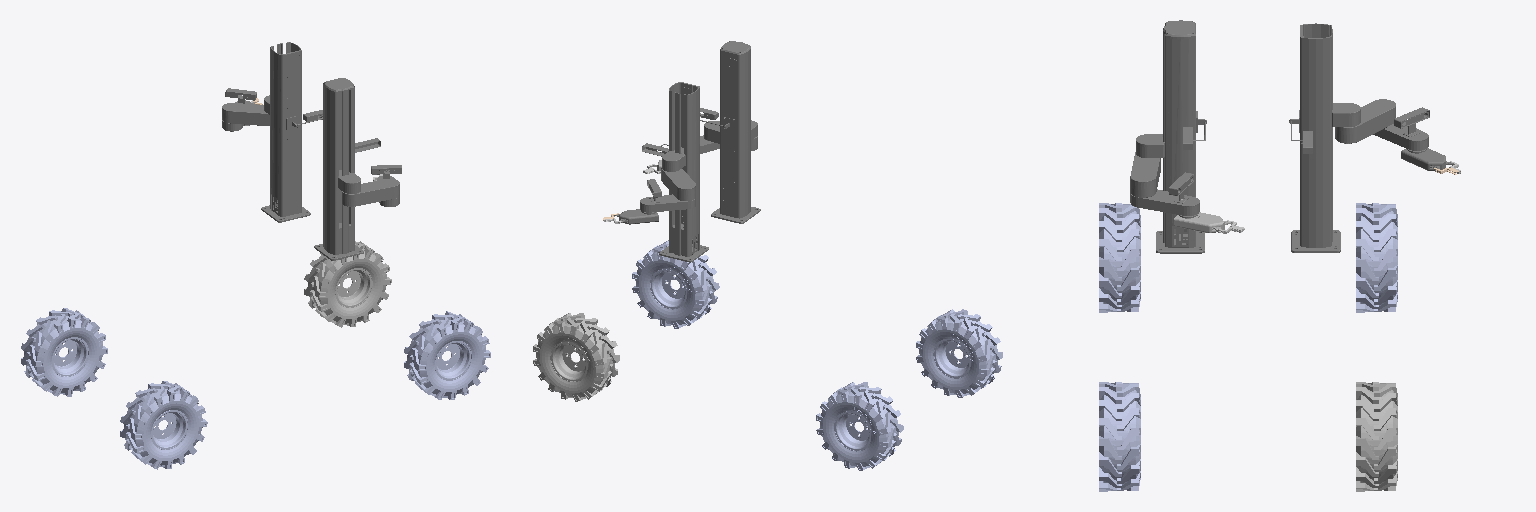
--- Facts derived from the render (not from the file) ---
Views: 3 orthographic renders of the robot side by side, from view 1: azimuth 30°, elevation 25°; view 2: azimuth 150°, elevation 25°; view 3: azimuth 270°, elevation 25°.
Robot: arm — 19 links, 18 joints (9 revolute, 1 continuous, 4 prismatic, 4 fixed); root link base_link; default pose: every joint at zero.
Visible links, largest first — view 1: l_arm_base, r_arm_base, l_wheel_back, r_wheel_front, r_wheel_back, l_wheel_front, r_arm_link_2, l_arm_link_2; view 2: r_arm_base, l_wheel_back, r_wheel_back, l_wheel_front, r_wheel_front, l_arm_base, l_arm_link_3, l_arm_link_2; view 3: l_arm_base, r_arm_base, l_wheel_front, l_wheel_back, r_wheel_front, r_wheel_back, r_arm_link_3, l_arm_link_2, l_arm_link_3, r_arm_link_2, r_arm_gripper_base, gripper_base (+2 smaller).
Link boxes in pixels (x1,y1,x2,y2): l_arm_base: (261, 42, 322, 222); r_arm_base: (314, 78, 380, 260); l_wheel_back: (21, 308, 107, 396); r_wheel_front: (404, 311, 490, 399); r_wheel_back: (120, 381, 207, 469); l_wheel_front: (304, 241, 391, 327); r_arm_link_2: (342, 179, 399, 206); l_arm_link_2: (222, 103, 269, 125); r_arm_base: (700, 41, 760, 223); l_wheel_back: (816, 382, 903, 470); r_wheel_back: (916, 309, 1002, 397); l_wheel_front: (533, 313, 619, 401); r_wheel_front: (632, 240, 719, 328); l_arm_base: (642, 82, 708, 262); l_arm_link_3: (640, 179, 695, 213); l_arm_link_2: (661, 168, 695, 200); l_arm_base: (1289, 23, 1340, 252); r_arm_base: (1156, 20, 1206, 253); l_wheel_front: (1356, 382, 1397, 491); l_wheel_back: (1356, 203, 1397, 312); r_wheel_front: (1099, 382, 1140, 491); r_wheel_back: (1099, 203, 1140, 312); r_arm_link_3: (1130, 172, 1199, 217); l_arm_link_2: (1335, 99, 1395, 143); l_arm_link_3: (1373, 107, 1429, 152); r_arm_link_2: (1130, 152, 1160, 197); r_arm_gripper_base: (1174, 198, 1232, 232); gripper_base: (1401, 148, 1454, 171).
Size in the robot's own frame: 2.16 by 1.47 by 1.82 metres.
18 mesh visuals loaded from 19 distinct referenced files (18 binary STL); not drawn: 1 (reference not matched to a file when rendering).

The robot description file, URDF, robot "arm":
<?xml version="1.0" encoding="utf-8"?>
<!-- This URDF was automatically created by SolidWorks to URDF Exporter! Originally created by Stephen Brawner ([email redacted]) 
     Commit Version: 1.6.0-1-g15f4949  Build Version: 1.6.7594.29634
     For more information, please see http://wiki.ros.org/sw_urdf_exporter -->
<robot
  name="arm">
  <link
    name="base_link">
    <inertial>
      <origin
        xyz="0.0967240490462767 -6.50785287934919E-06 0.570595021546874"
        rpy="0 0 0" />
      <mass
        value="732.561419245809" />
      <inertia
        ixx="55.0439847447433"
        ixy="0.0010546737252786"
        ixz="-13.2136142377722"
        iyy="215.138264753584"
        iyz="0.00166435387234733"
        izz="233.631575009062" />
    </inertial>
    <visual>
      <origin
        xyz="0 0 0"
        rpy="0 0 0" />
      <geometry>
        <mesh
          filename="package://arm/meshes/base_link.STL" />
      </geometry>
      <material
        name="">
        <color
          rgba="0.847058823529412 0.847058823529412 0.847058823529412 1" />
      </material>
    </visual>
    <collision>
      <origin
        xyz="0 0 0"
        rpy="0 0 0" />
      <geometry>
        <mesh
          filename="package://arm/meshes/base_link.STL" />
      </geometry>
    </collision>
  </link>
  <link
    name="l_wheel_front">
    <inertial>
      <origin
        xyz="-2.55500666828112E-05 -0.00431559968288031 2.73318019217081E-05"
        rpy="0 0 0" />
      <mass
        value="15.9113277105509" />
      <inertia
        ixx="0.256653495251073"
        ixy="3.31407246755754E-05"
        ixz="3.06050778192747E-05"
        iyy="0.446525377478014"
        iyz="-3.54358257007596E-05"
        izz="0.256649431563068" />
    </inertial>
    <visual>
      <origin
        xyz="0 0 0"
        rpy="0 0 0" />
      <geometry>
        <mesh
          filename="package://arm/meshes/l_wheel_front.STL" />
      </geometry>
      <material
        name="">
        <color
          rgba="0.764705882352941 0.764705882352941 0.764705882352941 1" />
      </material>
    </visual>
    <collision>
      <origin
        xyz="0 0 0"
        rpy="0 0 0" />
      <geometry>
        <mesh
          filename="package://arm/meshes/l_wheel_front.STL" />
      </geometry>
    </collision>
  </link>
  <joint
    name="base_l_wheel_front"
    type="continuous">
    <origin
      xyz="0.86 0.52594 0.2225"
      rpy="0 0 0" />
    <parent
      link="base_link" />
    <child
      link="l_wheel_front" />
    <axis
      xyz="0 -1 0" />
    <limit
      lower="-1000000"
      upper="1000000"
      effort="500000"
      velocity="1000000" />
  </joint>
  <link
    name="r_wheel_front">
    <inertial>
      <origin
        xyz="-2.55500666830333E-05 0.0026266099414507 2.73318019217567E-05"
        rpy="0 0 0" />
      <mass
        value="15.911327710551" />
      <inertia
        ixx="0.256653495251073"
        ixy="3.31407246756984E-05"
        ixz="3.06050778195969E-05"
        iyy="0.446525377478014"
        iyz="-3.54358257008297E-05"
        izz="0.256649431563068" />
    </inertial>
    <visual>
      <origin
        xyz="0 0 0"
        rpy="0 0 0" />
      <geometry>
        <mesh
          filename="package://arm/meshes/r_wheel_front.STL" />
      </geometry>
      <material
        name="">
        <color
          rgba="0.792156862745098 0.819607843137255 0.933333333333333 1" />
      </material>
    </visual>
    <collision>
      <origin
        xyz="0 0 0"
        rpy="0 0 0" />
      <geometry>
        <mesh
          filename="package://arm/meshes/r_wheel_front.STL" />
      </geometry>
    </collision>
  </link>
  <joint
    name="base_r_wheel_front"
    type="revolute">
    <origin
      xyz="0.86 -0.525 0.2225"
      rpy="0 0 0" />
    <parent
      link="base_link" />
    <child
      link="r_wheel_front" />
    <axis
      xyz="0 1 0" />
    <limit
      lower="-1000000"
      upper="1000000"
      effort="50000"
      velocity="50000" />
  </joint>
  <link
    name="l_wheel_back">
    <inertial>
      <origin
        xyz="-2.55500666831443E-05 -0.00337339005854931 2.73318019218954E-05"
        rpy="0 0 0" />
      <mass
        value="15.911327710551" />
      <inertia
        ixx="0.256653495251073"
        ixy="3.31407246756691E-05"
        ixz="3.06050778194563E-05"
        iyy="0.446525377478015"
        iyz="-3.5435825700846E-05"
        izz="0.256649431563068" />
    </inertial>
    <visual>
      <origin
        xyz="0 0 0"
        rpy="0 0 0" />
      <geometry>
        <mesh
          filename="package://arm/meshes/l_wheel_back.STL" />
      </geometry>
      <material
        name="">
        <color
          rgba="0.792156862745098 0.819607843137255 0.933333333333333 1" />
      </material>
    </visual>
    <collision>
      <origin
        xyz="0 0 0"
        rpy="0 0 0" />
      <geometry>
        <mesh
          filename="package://arm/meshes/l_wheel_back.STL" />
      </geometry>
    </collision>
  </link>
  <joint
    name="base_l_wheel_back"
    type="revolute">
    <origin
      xyz="-0.86 0.525 0.2225"
      rpy="0 0 0" />
    <parent
      link="base_link" />
    <child
      link="l_wheel_back" />
    <axis
      xyz="0 -1 0" />
    <limit
      lower="-1000000"
      upper="1000000"
      effort="50000"
      velocity="50000" />
  </joint>
  <link
    name="r_wheel_back">
    <inertial>
      <origin
        xyz="-2.55500666828112E-05 0.0026266099414507 2.73318019219301E-05"
        rpy="0 0 0" />
      <mass
        value="15.911327710551" />
      <inertia
        ixx="0.256653495251073"
        ixy="3.31407246756816E-05"
        ixz="3.06050778197023E-05"
        iyy="0.446525377478014"
        iyz="-3.54358257007741E-05"
        izz="0.256649431563068" />
    </inertial>
    <visual>
      <origin
        xyz="0 0 0"
        rpy="0 0 0" />
      <geometry>
        <mesh
          filename="package://arm/meshes/r_wheel_back.STL" />
      </geometry>
      <material
        name="">
        <color
          rgba="0.792156862745098 0.819607843137255 0.933333333333333 1" />
      </material>
    </visual>
    <collision>
      <origin
        xyz="0 0 0"
        rpy="0 0 0" />
      <geometry>
        <mesh
          filename="package://arm/meshes/r_wheel_back.STL" />
      </geometry>
    </collision>
  </link>
  <joint
    name="base_r_wheel_back"
    type="revolute">
    <origin
      xyz="-0.86 -0.525 0.2225"
      rpy="0 0 0" />
    <parent
      link="base_link" />
    <child
      link="r_wheel_back" />
    <axis
      xyz="0 1 0" />
    <limit
      lower="-1000000"
      upper="1000000"
      effort="50000"
      velocity="50000" />
  </joint>
  <link
    name="l_arm_base">
    <inertial>
      <origin
        xyz="0.00239712888314969 -0.0158368799430925 0.414177649362131"
        rpy="0 0 0" />
      <mass
        value="3.29772675117286" />
      <inertia
        ixx="0.208963980014046"
        ixy="-7.51708182043629E-05"
        ixz="0.0010210620535329"
        iyy="0.211111487766926"
        iyz="-0.000381588032890232"
        izz="0.0149413039777907" />
    </inertial>
    <visual>
      <origin
        xyz="0 0 0"
        rpy="0 0 0" />
      <geometry>
        <mesh
          filename="package://arm/meshes/l_arm_base.STL" />
      </geometry>
      <material
        name="">
        <color
          rgba="0.564705882352941 0.564705882352941 0.564705882352941 1" />
      </material>
    </visual>
    <collision>
      <origin
        xyz="0 0 0"
        rpy="0 0 0" />
      <geometry>
        <mesh
          filename="package://arm/meshes/l_arm_base.STL" />
      </geometry>
    </collision>
  </link>
  <joint
    name="base_l_arm_base"
    type="fixed">
    <origin
      xyz="0.3455 0.27507 0.8625"
      rpy="0 0 0" />
    <parent
      link="base_link" />
    <child
      link="l_arm_base" />
    <axis
      xyz="0 0 0" />
  </joint>
  <link
    name="l_arm_link_1">
    <inertial>
      <origin
        xyz="0.000125636870941748 0.0804188199431082 0.556535036595727"
        rpy="0 0 0" />
      <mass
        value="0.99376961560053" />
      <inertia
        ixx="0.0034290734895918"
        ixy="1.44752336404463E-05"
        ixz="2.09107970542602E-06"
        iyy="0.000950241498545379"
        iyz="7.33029796466367E-05"
        izz="0.0039252957485201" />
    </inertial>
    <visual>
      <origin
        xyz="0 0 0"
        rpy="0 0 0" />
      <geometry>
        <mesh
          filename="package://arm/meshes/l_arm_link_1.STL" />
      </geometry>
      <material
        name="">
        <color
          rgba="0.564705882352941 0.564705882352941 0.564705882352941 1" />
      </material>
    </visual>
    <collision>
      <origin
        xyz="0 0 0"
        rpy="0 0 0" />
      <geometry>
        <mesh
          filename="package://arm/meshes/l_arm_link_1.STL" />
      </geometry>
    </collision>
  </link>
  <joint
    name="l_arm_base_l_arm_link1"
    type="fixed">
    <origin
      xyz="0 0 0"
      rpy="0 0 0" />
    <parent
      link="l_arm_base" />
    <child
      link="l_arm_link_1" />
    <axis
      xyz="0 0 -1" />
    <limit
      lower="0"
      upper="0"
      effort="300"
      velocity="3" />
  </joint>
  <link
    name="l_arm_link_2">
    <inertial>
      <origin
        xyz="-0.0854570113219301 0.0709105321317886 -0.0984483167347359"
        rpy="0 0 0" />
      <mass
        value="2.16979338726156" />
      <inertia
        ixx="0.00866799275524474"
        ixy="0.00727661797303508"
        ixz="-7.28447678409941E-05"
        iyy="0.0113873692649047"
        iyz="6.03025196983547E-05"
        izz="0.0186444325786857" />
    </inertial>
    <visual>
      <origin
        xyz="0 0 0"
        rpy="0 0 0" />
      <geometry>
        <mesh
          filename="package://arm/meshes/l_arm_link_2.STL" />
      </geometry>
      <material
        name="">
        <color
          rgba="0.564705882352941 0.564705882352941 0.564705882352941 1" />
      </material>
    </visual>
    <collision>
      <origin
        xyz="0 0 0"
        rpy="0 0 0" />
      <geometry>
        <mesh
          filename="package://arm/meshes/l_arm_link_2.STL" />
      </geometry>
    </collision>
  </link>
  <joint
    name="l_arm_link_1_l_arm_link_2"
    type="revolute">
    <origin
      xyz="-2.3854E-05 0.13193 0.59176"
      rpy="0 0 0" />
    <parent
      link="l_arm_link_1" />
    <child
      link="l_arm_link_2" />
    <axis
      xyz="0 0 1" />
    <limit
      lower="-3.14"
      upper="3.14"
      effort="300"
      velocity="3" />
  </joint>
  <link
    name="l_arm_link_3">
    <inertial>
      <origin
        xyz="0.0699396065905298 -0.0737302141498409 -0.0926276756075906"
        rpy="0 0 0" />
      <mass
        value="1.46789098760177" />
      <inertia
        ixx="0.00546308340369262"
        ixy="0.00380182327080884"
        ixz="1.85741775412589E-05"
        iyy="0.00506145717588312"
        iyz="-1.95812221911357E-05"
        izz="0.0100016298513614" />
    </inertial>
    <visual>
      <origin
        xyz="0 0 0"
        rpy="0 0 0" />
      <geometry>
        <mesh
          filename="package://arm/meshes/l_arm_link_3.STL" />
      </geometry>
      <material
        name="">
        <color
          rgba="0.564705882352941 0.564705882352941 0.564705882352941 1" />
      </material>
    </visual>
    <collision>
      <origin
        xyz="0 0 0"
        rpy="0 0 0" />
      <geometry>
        <mesh
          filename="package://arm/meshes/l_arm_link_3.STL" />
      </geometry>
    </collision>
  </link>
  <joint
    name="l_arm_link_2_l_arm_link_3"
    type="revolute">
    <origin
      xyz="-0.16927 0.14052 -0.063"
      rpy="0 0 1.5708" />
    <parent
      link="l_arm_link_2" />
    <child
      link="l_arm_link_3" />
    <axis
      xyz="0 0 1" />
    <limit
      lower="-3.14"
      upper="3.14"
      effort="300"
      velocity="3" />
  </joint>
  <link
    name="gripper_base">
    <inertial>
      <origin
        xyz="0.0543458315585676 -0.0572916796759554 -0.0816562372115427"
        rpy="0 0 0" />
      <mass
        value="0.0925048801703324" />
      <inertia
        ixx="0.000147219616118056"
        ixy="5.76193415562662E-05"
        ixz="4.08521109396145E-06"
        iyy="0.000141134395256371"
        iyz="-4.30486282246148E-06"
        izz="0.000248120384234212" />
    </inertial>
    <visual>
      <origin
        xyz="0 0 0"
        rpy="0 0 0" />
      <geometry>
        <mesh
          filename="package://arm/meshes/gripper_base.STL" />
      </geometry>
      <material
        name="">
        <color
          rgba="0.564705882352941 0.564705882352941 0.564705882352941 1" />
      </material>
    </visual>
    <collision>
      <origin
        xyz="0 0 0"
        rpy="0 0 0" />
      <geometry>
        <mesh
          filename="package://arm/meshes/gripper_base.STL" />
      </geometry>
    </collision>
  </link>
  <joint
    name="l_arm_link3_gripper_base"
    type="revolute">
    <origin
      xyz="0.13764 -0.1451 -0.072"
      rpy="0 0 0" />
    <parent
      link="l_arm_link_3" />
    <child
      link="gripper_base" />
    <axis
      xyz="0 0 1" />
    <limit
      lower="-3.14"
      upper="3.14"
      effort="300"
      velocity="3" />
  </joint>
  <link
    name="r_finger_l_gripper">
    <inertial>
      <origin
        xyz="0.0277076348090927 0.00716408729318857 0.000441541729435446"
        rpy="0 0 0" />
      <mass
        value="0.0110592335472186" />
      <inertia
        ixx="1.37861229560315E-06"
        ixy="9.88076305662897E-07"
        ixz="3.21117722828726E-10"
        iyy="5.61956926591679E-06"
        iyz="3.04620526071721E-10"
        izz="6.67238241923965E-06" />
    </inertial>
    <visual>
      <origin
        xyz="0 0 0"
        rpy="0 0 0" />
      <geometry>
        <mesh
          filename="package://arm/meshes/r_finger_l_gripper.STL" />
      </geometry>
      <material
        name="">
        <color
          rgba="1 0.898039215686275 0.8 1" />
      </material>
    </visual>
    <collision>
      <origin
        xyz="0 0 0"
        rpy="0 0 0" />
      <geometry>
        <mesh
          filename="package://arm/meshes/r_finger_l_gripper.STL" />
      </geometry>
    </collision>
  </link>
  <joint
    name="l_gripper_base_r_finger"
    type="prismatic">
    <origin
      xyz="0.088793 -0.16688 -0.0829"
      rpy="0 0 0" />
    <parent
      link="gripper_base" />
    <child
      link="r_finger_l_gripper" />
    <axis
      xyz="-0.72551 -0.68821 0" />
    <limit
      lower="0"
      upper="0.1"
      effort="300"
      velocity="3" />
  </joint>
  <link
    name="l_finger_l_gripper">
    <inertial>
      <origin
        xyz="-0.00760142036984568 -0.0359234775482452 -2.65230171159203E-10"
        rpy="0 0 0" />
      <mass
        value="0.0155284591982907" />
      <inertia
        ixx="6.26458311796964E-06"
        ixy="1.18552812316359E-06"
        ixz="-8.21780122767611E-13"
        iyy="1.79405377763834E-06"
        iyz="7.89584673597294E-13"
        izz="7.66157734339293E-06" />
    </inertial>
    <visual>
      <origin
        xyz="0 0 0"
        rpy="0 0 0" />
      <geometry>
        <mesh
          filename="package://arm/meshes/l_finger_l_gripper.STL" />
      </geometry>
      <material
        name="">
        <color
          rgba="0.847058823529412 0.847058823529412 0.847058823529412 1" />
      </material>
    </visual>
    <collision>
      <origin
        xyz="0 0 0"
        rpy="0 0 0" />
      <geometry>
        <mesh
          filename="package://arm/meshes/l_finger_l_gripper.STL" />
      </geometry>
    </collision>
  </link>
  <joint
    name="l_gripper_base_l_finger"
    type="prismatic">
    <origin
      xyz="0.16197 -0.09747 -0.0829"
      rpy="0 0 0" />
    <parent
      link="gripper_base" />
    <child
      link="l_finger_l_gripper" />
    <axis
      xyz="-0.72551 -0.68821 0" />
    <limit
      lower="0"
      upper="0.1"
      effort="300"
      velocity="3" />
  </joint>
  <link
    name="r_arm_base">
    <inertial>
      <origin
        xyz="0.00143697373777774 0.015371086663283 0.429279917393511"
        rpy="0 0 0" />
      <mass
        value="3.3914084611438" />
      <inertia
        ixx="0.209119918302014"
        ixy="-2.79576441767446E-05"
        ixz="-0.00102107701913317"
        iyy="0.211290082301493"
        iyz="0.000387756695328229"
        izz="0.0152712289293458" />
    </inertial>
    <visual>
      <origin
        xyz="0 0 0"
        rpy="0 0 0" />
      <geometry>
        <mesh
          filename="package://arm/meshes/r_arm_base.STL" />
      </geometry>
      <material
        name="">
        <color
          rgba="0.564705882352941 0.564705882352941 0.564705882352941 1" />
      </material>
    </visual>
    <collision>
      <origin
        xyz="0 0 0"
        rpy="0 0 0" />
      <geometry>
        <mesh
          filename="package://arm/meshes/r_arm_base.STL" />
      </geometry>
    </collision>
  </link>
  <joint
    name="base_r_arm_base"
    type="fixed">
    <origin
      xyz="0.34998 -0.27507 0.8625"
      rpy="0 0 0" />
    <parent
      link="base_link" />
    <child
      link="r_arm_base" />
    <axis
      xyz="0 0 0" />
  </joint>
  <link
    name="r_arm_link_1">
    <inertial>
      <origin
        xyz="-0.000125636870941637 -0.0804188199431085 0.418775928078797"
        rpy="0 0 0" />
      <mass
        value="0.99376961560053" />
      <inertia
        ixx="0.00342907348959179"
        ixy="1.44752336404472E-05"
        ixz="-2.09107970542582E-06"
        iyy="0.000950241498545383"
        iyz="-7.33029796466401E-05"
        izz="0.00392529574852009" />
    </inertial>
    <visual>
      <origin
        xyz="0 0 0"
        rpy="0 0 0" />
      <geometry>
        <mesh
          filename="package://arm/meshes/r_arm_link_1.STL" />
      </geometry>
      <material
        name="">
        <color
          rgba="0.564705882352941 0.564705882352941 0.564705882352941 1" />
      </material>
    </visual>
    <collision>
      <origin
        xyz="0 0 0"
        rpy="0 0 0" />
      <geometry>
        <mesh
          filename="package://arm/meshes/r_arm_link_1.STL" />
      </geometry>
    </collision>
  </link>
  <joint
    name="r_arm_base_r_arm_link_1"
    type="fixed">
    <origin
      xyz="0 0 0"
      rpy="0 0 0" />
    <parent
      link="r_arm_base" />
    <child
      link="r_arm_link_1" />
    <axis
      xyz="0 0 -1" />
    <limit
      lower="0"
      upper="0"
      effort="300"
      velocity="3" />
  </joint>
  <link
    name="r_arm_link_2">
    <inertial>
      <origin
        xyz="0.110638958296988 -0.00949870182453172 -0.0984483168531515"
        rpy="0 0 0" />
      <mass
        value="2.16979338725361" />
      <inertia
        ixx="0.00273445011587975"
        ixy="0.00126755844621284"
        ixz="9.42288684763652E-05"
        iyy="0.0173209120460984"
        iyz="-7.97968333694517E-06"
        izz="0.0186444327205125" />
    </inertial>
    <visual>
      <origin
        xyz="0 0 0"
        rpy="0 0 0" />
      <geometry>
        <mesh
          filename="package://arm/meshes/r_arm_link_2.STL" />
      </geometry>
      <material
        name="">
        <color
          rgba="0.564705882352941 0.564705882352941 0.564705882352941 1" />
      </material>
    </visual>
    <collision>
      <origin
        xyz="0 0 0"
        rpy="0 0 0" />
      <geometry>
        <mesh
          filename="package://arm/meshes/r_arm_link_2.STL" />
      </geometry>
    </collision>
  </link>
  <joint
    name="r_arm_link_1_r_arm_link_2"
    type="revolute">
    <origin
      xyz="2.3854E-05 -0.13193 0.454"
      rpy="0 0 0" />
    <parent
      link="r_arm_link_1" />
    <child
      link="r_arm_link_2" />
    <axis
      xyz="0 0 1" />
    <limit
      lower="-3.14"
      upper="3.14"
      effort="300"
      velocity="3" />
  </joint>
  <link
    name="r_arm_link_3">
    <inertial>
      <origin
        xyz="0.0431771728754071 0.0947109741374368 -0.0895746798248387"
        rpy="0 0 0" />
      <mass
        value="1.51944277714983" />
      <inertia
        ixx="0.00779168094949869"
        ixy="-0.00282823353959421"
        ixz="1.04013867884702E-05"
        iyy="0.00287734902626481"
        iyz="2.50711318504378E-05"
        izz="0.0101312773842739" />
    </inertial>
    <visual>
      <origin
        xyz="0 0 0"
        rpy="0 0 0" />
      <geometry>
        <mesh
          filename="package://arm/meshes/r_arm_link_3.STL" />
      </geometry>
      <material
        name="">
        <color
          rgba="0.564705882352941 0.564705882352941 0.564705882352941 1" />
      </material>
    </visual>
    <collision>
      <origin
        xyz="0 0 0"
        rpy="0 0 0" />
      <geometry>
        <mesh
          filename="package://arm/meshes/r_arm_link_3.STL" />
      </geometry>
    </collision>
  </link>
  <joint
    name="r_arm_link_2_r_arm_link_3"
    type="revolute">
    <origin
      xyz="0.21919 -0.018867 -0.063"
      rpy="0 0 0" />
    <parent
      link="r_arm_link_2" />
    <child
      link="r_arm_link_3" />
    <axis
      xyz="0 0 1" />
    <limit
      lower="-3.14"
      upper="3.14"
      effort="300"
      velocity="3" />
  </joint>
  <link
    name="r_arm_gripper_base">
    <inertial>
      <origin
        xyz="0.0633536858572014 -0.0291784520156396 -0.0822038473739434"
        rpy="0 0 0" />
      <mass
        value="0.132135737124656" />
      <inertia
        ixx="0.000110895442565575"
        ixy="4.374188703201E-05"
        ixz="5.40933294688353E-06"
        iyy="0.000186906457220794"
        iyz="-2.46472178564673E-06"
        izz="0.000253136639498816" />
    </inertial>
    <visual>
      <origin
        xyz="0 0 0"
        rpy="0 0 0" />
      <geometry>
        <mesh
          filename="package://arm/meshes/r_arm_gripper_base.STL" />
      </geometry>
      <material
        name="">
        <color
          rgba="0.752941176470588 0.752941176470588 0.752941176470588 1" />
      </material>
    </visual>
    <collision>
      <origin
        xyz="0 0 0"
        rpy="0 0 0" />
      <geometry>
        <mesh
          filename="package://arm/meshes/r_arm_gripper_base.STL" />
      </geometry>
    </collision>
  </link>
  <joint
    name="r_arm_link_3_r_arm_gripper_base"
    type="revolute">
    <origin
      xyz="0.082963 0.18198 -0.072"
      rpy="0 0 1.5708" />
    <parent
      link="r_arm_link_3" />
    <child
      link="r_arm_gripper_base" />
    <axis
      xyz="0 0 1" />
    <limit
      lower="-3.14"
      upper="3.14"
      effort="300"
      velocity="3" />
  </joint>
  <link
    name="r_gripper_l_finger">
    <inertial>
      <origin
        xyz="0.00641167185129737 -0.0361547824634876 -2.94652746646307E-10"
        rpy="0 0 0" />
      <mass
        value="0.0155284591580667" />
      <inertia
        ixx="4.81337495713019E-06"
        ixy="2.40564762955117E-06"
        ixz="-1.05760393491046E-12"
        iyy="3.24526193067881E-06"
        iyz="4.18529012113153E-13"
        izz="7.66157733174381E-06" />
    </inertial>
    <visual>
      <origin
        xyz="0 0 0"
        rpy="0 0 0" />
      <geometry>
        <mesh
          filename="package://arm/meshes/r_gripper_l_finger.STL" />
      </geometry>
      <material
        name="">
        <color
          rgba="0.847058823529412 0.847058823529412 0.847058823529412 1" />
      </material>
    </visual>
    <collision>
      <origin
        xyz="0 0 0"
        rpy="0 0 0" />
      <geometry>
        <mesh
          filename="package://arm/meshes/r_gripper_l_finger.STL" />
      </geometry>
    </collision>
  </link>
  <joint
    name="r_gripper_base_l_finger"
    type="prismatic">
    <origin
      xyz="0.18669 -0.029686 -0.0829"
      rpy="0 0 0" />
    <parent
      link="r_arm_gripper_base" />
    <child
      link="r_gripper_l_finger" />
    <axis
      xyz="-0.41481 -0.90991 0" />
    <limit
      lower="0"
      upper="0.1"
      effort="300"
      velocity="3" />
  </joint>
  <link
    name="r_gripper_r_finger">
    <inertial>
      <origin
        xyz="0.0324852297608673 0.0190987316135892 0.000299773799505965"
        rpy="0 0 0" />
      <mass
        value="0.0162893218523249" />
      <inertia
        ixx="1.58350573712797E-06"
        ixy="-3.88985762644633E-07"
        ixz="1.84648051549409E-10"
        iyy="6.65584545744142E-06"
        iyz="4.02278499234685E-10"
        izz="7.84217510614175E-06" />
    </inertial>
    <visual>
      <origin
        xyz="0 0 0"
        rpy="0 0 0" />
      <geometry>
        <mesh
          filename="package://arm/meshes/r_gripper_r_finger.STL" />
      </geometry>
      <material
        name="">
        <color
          rgba="0.847058823529412 0.847058823529412 0.847058823529412 1" />
      </material>
    </visual>
    <collision>
      <origin
        xyz="0 0 0"
        rpy="0 0 0" />
      <geometry>
        <mesh
          filename="package://arm/meshes/r_gripper_r_finger.STL" />
      </geometry>
    </collision>
  </link>
  <joint
    name="r_gripper_base_r_finger"
    type="prismatic">
    <origin
      xyz="0.14485 -0.12146 -0.0829"
      rpy="0 0 0" />
    <parent
      link="r_arm_gripper_base" />
    <child
      link="r_gripper_r_finger" />
    <axis
      xyz="-0.41481 -0.90991 0" />
    <limit
      lower="0"
      upper="0.1"
      effort="300"
      velocity="3" />
  </joint>

  <gazebo>
  <plugin name="skid_steer_drive_controller" filename="libgazebo_ros_skid_steer_drive.so">
    <updateRate>100.0</updateRate>
    <robotNamespace>/</robotNamespace>
    <leftFrontJoint>base_l_wheel_front</leftFrontJoint>
    <rightFrontJoint>base_r_wheel_front</rightFrontJoint>
    <leftRearJoint>base_l_wheel_back</leftRearJoint>
    <rightRearJoint>base_r_wheel_back</rightRearJoint>
    <wheelSeparation>0.4</wheelSeparation>
    <wheelDiameter>0.215</wheelDiameter>
    <robotBaseFrame>base_link</robotBaseFrame>
    <torque>5000</torque>
    <commandTopic>cmd_vel</commandTopic>
    <odometryTopic>odom</odometryTopic>
    <odometryFrame>odom</odometryFrame>
    <topicName>cmd_vel</topicName>
    <broadcastTF>false</broadcastTF>
    <covariance_x>0.0001</covariance_x>
    <covariance_y>0.0001</covariance_y>
    <covariance_yaw>0.01</covariance_yaw>
  </plugin>
  <!-- <plugin name="object_controller" filename="libgazebo_ros_planar_move.so">
      <commandTopic>cmd_vel</commandTopic>
      <odometryTopic>odom</odometryTopic>
      <odometryFrame>odom</odometryFrame>
      <odometryRate>20.0</odometryRate>
      <robotBaseFrame>base_link</robotBaseFrame>
    </plugin> -->

    <!-- rosrun teleop_twist_keyboard teleop_twist_keyboard.py -->
</gazebo>
</robot>
